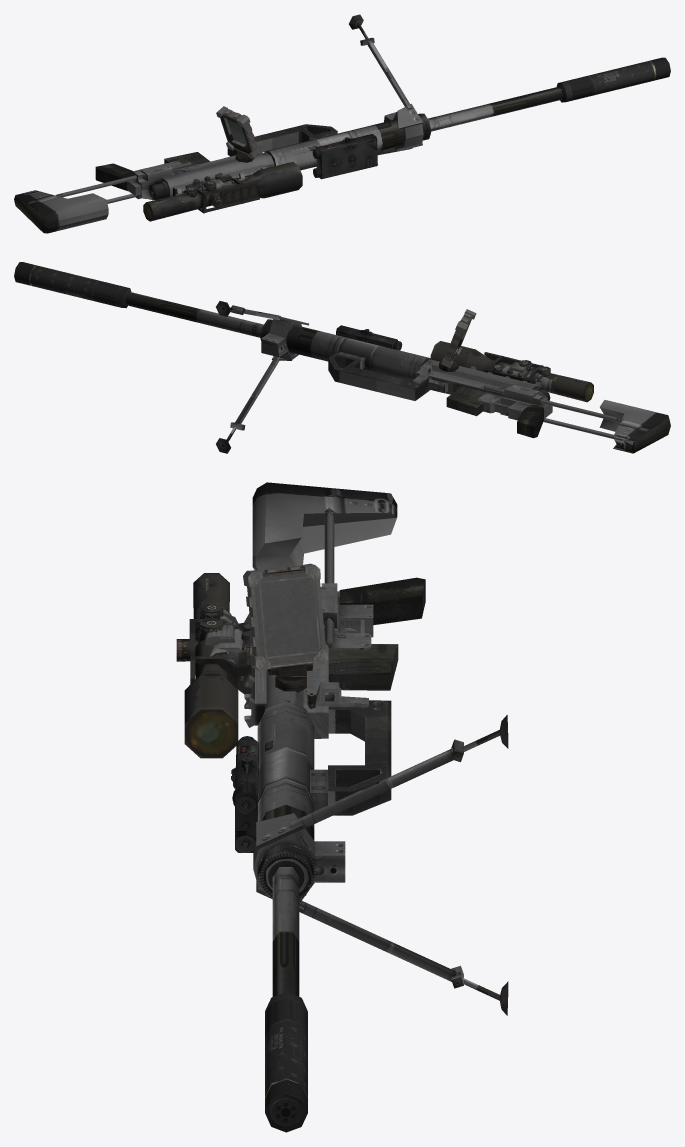
File: weapon_cheytac_desert_LOD0.obj
3 renders of one model, top to bottom at view 1: azimuth 30°, elevation 25°; view 2: azimuth 150°, elevation 25°; view 3: azimuth 270°, elevation 25°, orthographic. The views are drawn at different scales.
Parts seen in each view (by area): view 1: mtl_weapon_cheytac_desert, mtl_weapon_scope01, mtl_weapon_suppressor_b, mtl_weapon_laser_point, mtl_weapon_motion_tracker_desert; view 2: mtl_weapon_cheytac_desert, mtl_weapon_scope01, mtl_weapon_suppressor_b, mtl_weapon_motion_tracker_desert, mtl_weapon_laser_point, mtl_weapon_thermal_sight_2_desert; view 3: mtl_weapon_cheytac_desert, mtl_weapon_scope01, mtl_weapon_motion_tracker_desert, mtl_weapon_suppressor_b, mtl_weapon_laser_point, mtl_weapon_thermal_sight_2_desert.
Part boxes in pixels (x1=…): mtl_weapon_cheytac_desert: x1=14, y1=14, x2=562, y2=233; mtl_weapon_scope01: x1=143, y1=162, x2=302, y2=221; mtl_weapon_suppressor_b: x1=556, y1=57, x2=670, y2=102; mtl_weapon_laser_point: x1=312, y1=134, x2=377, y2=179; mtl_weapon_motion_tracker_desert: x1=216, y1=106, x2=259, y2=162; mtl_weapon_cheytac_desert: x1=125, y1=292, x2=670, y2=453; mtl_weapon_scope01: x1=430, y1=341, x2=593, y2=402; mtl_weapon_suppressor_b: x1=14, y1=262, x2=131, y2=308; mtl_weapon_motion_tracker_desert: x1=439, y1=309, x2=476, y2=371; mtl_weapon_laser_point: x1=336, y1=325, x2=402, y2=350; mtl_weapon_thermal_sight_2_desert: x1=494, y1=362, x2=548, y2=392; mtl_weapon_cheytac_desert: x1=244, y1=482, x2=508, y2=1015; mtl_weapon_scope01: x1=176, y1=573, x2=252, y2=758; mtl_weapon_motion_tracker_desert: x1=243, y1=563, x2=328, y2=692; mtl_weapon_suppressor_b: x1=265, y1=992, x2=307, y2=1132; mtl_weapon_laser_point: x1=231, y1=736, x2=258, y2=852; mtl_weapon_thermal_sight_2_desert: x1=205, y1=613, x2=251, y2=664.
Size of the model in its own units: 153 by 34.28 by 35.
